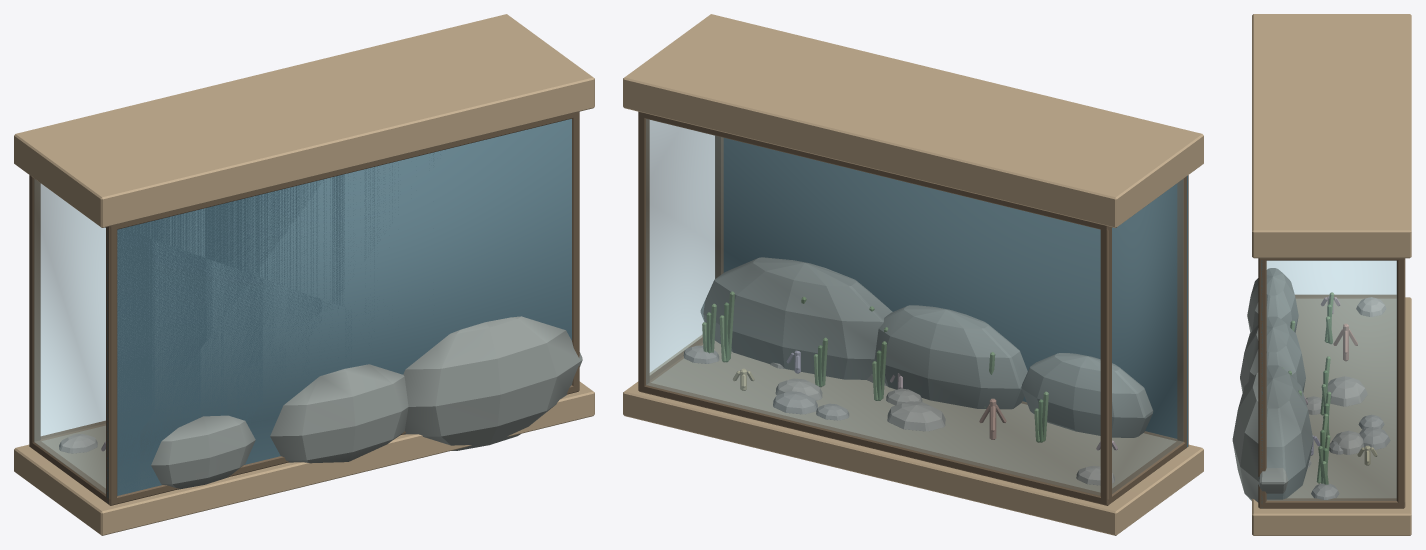
The model's file is furn_aquarium_wall__oak.glb.
3 renders of one model, left to right at view 1: azimuth 30°, elevation 25°; view 2: azimuth 150°, elevation 25°; view 3: azimuth 270°, elevation 25°, orthographic. The views are drawn at different scales.
Size of the model in its own units: 4.2 by 2.85 by 1.46.
